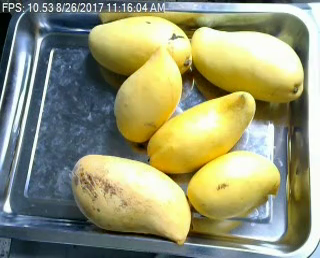Mango: (72, 156, 192, 243), (145, 89, 255, 173), (191, 27, 303, 102), (113, 45, 182, 142), (186, 151, 280, 219), (89, 16, 192, 78)
